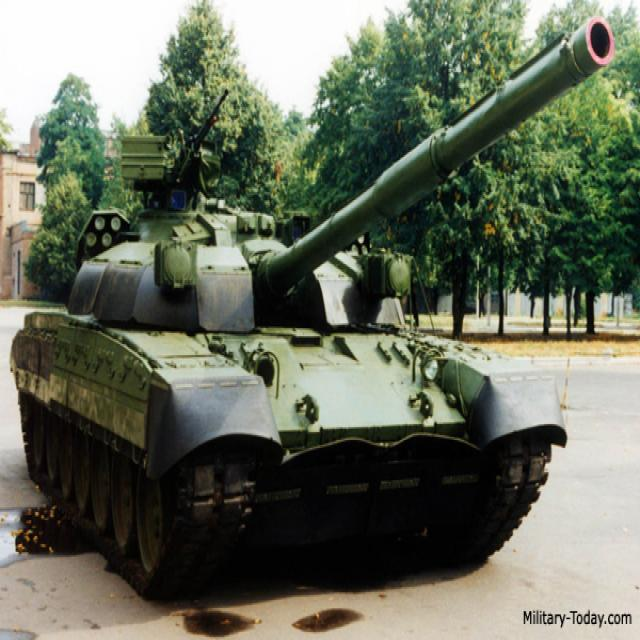Tank: (32, 82, 580, 598)
